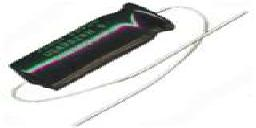Electrolytic Capacitor: (5, 3, 245, 125)
